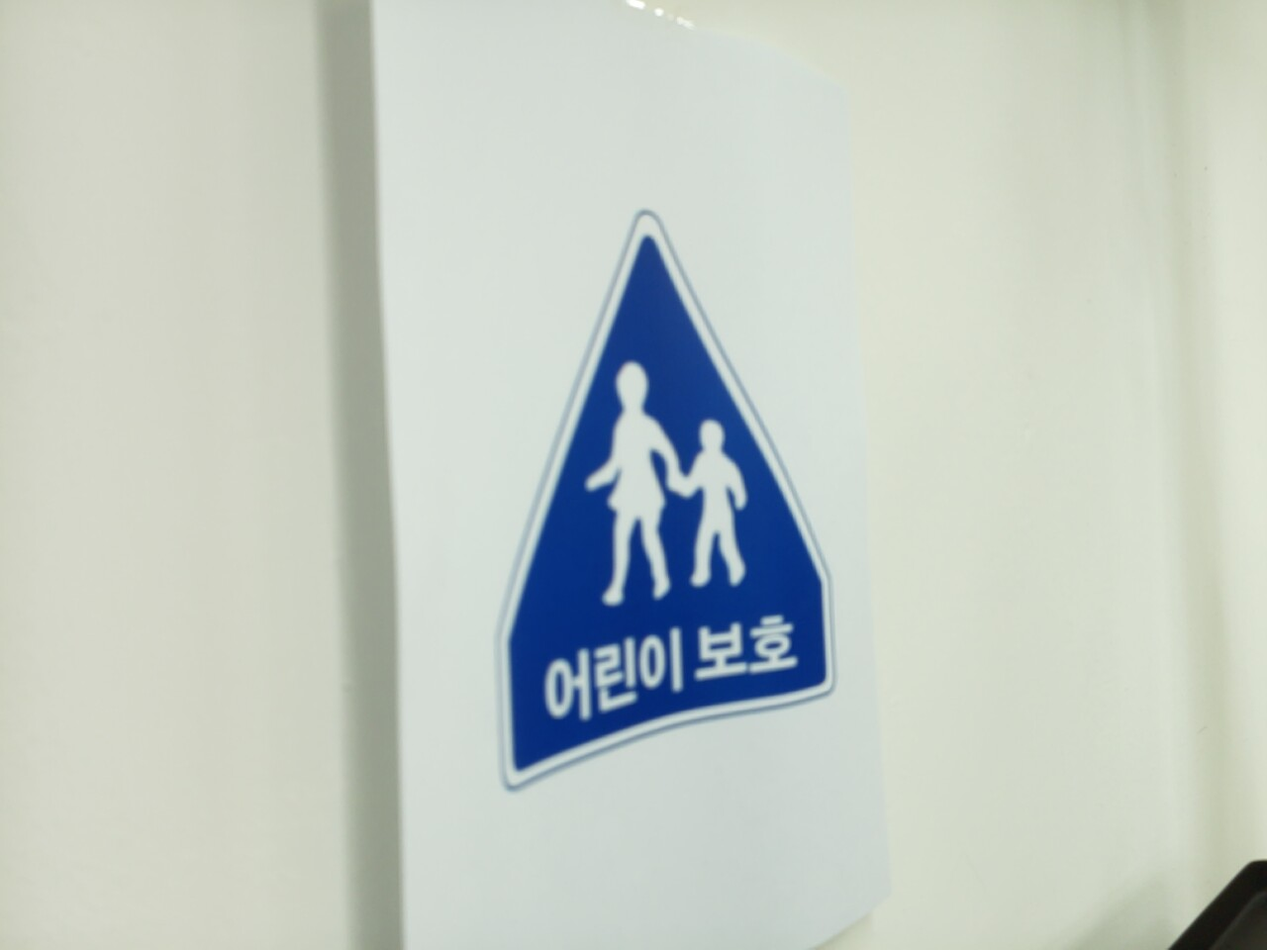school_zone: (498, 222, 836, 785)
